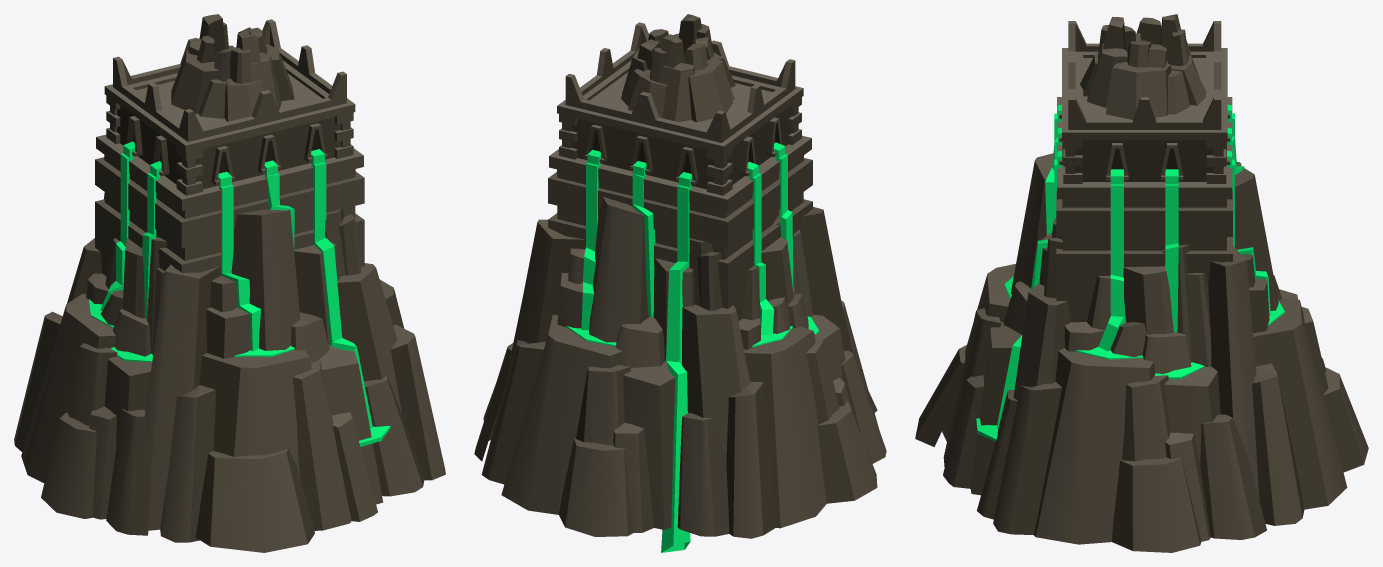
File: LargeLess_SF_Bld_Undead_Castle_Keep.fbx
3 views of the same model, side by side, from view 1: azimuth 30°, elevation 25°; view 2: azimuth 150°, elevation 25°; view 3: azimuth 270°, elevation 25° (orthographic). The views are drawn at different scales.
Visible parts, largest first — view 1: SF_Bld_Undead_Castle_Keep; view 2: SF_Bld_Undead_Castle_Keep; view 3: SF_Bld_Undead_Castle_Keep.
Boxes of the visible parts, x1,y1,x2,y2 form: SF_Bld_Undead_Castle_Keep: (14, 14, 445, 552); SF_Bld_Undead_Castle_Keep: (474, 14, 886, 552); SF_Bld_Undead_Castle_Keep: (915, 14, 1368, 552).
Bounding box in the file's own units: 1895 × 2248 × 1950.
